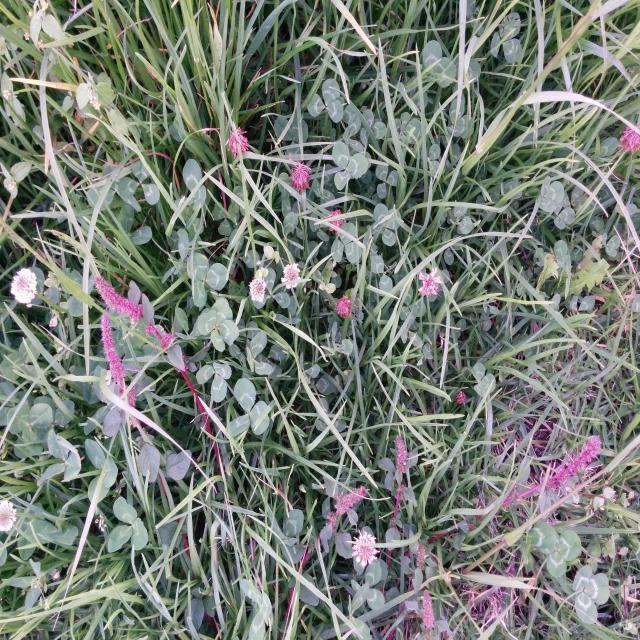Four Leaf Clover: (197, 298, 238, 350)
